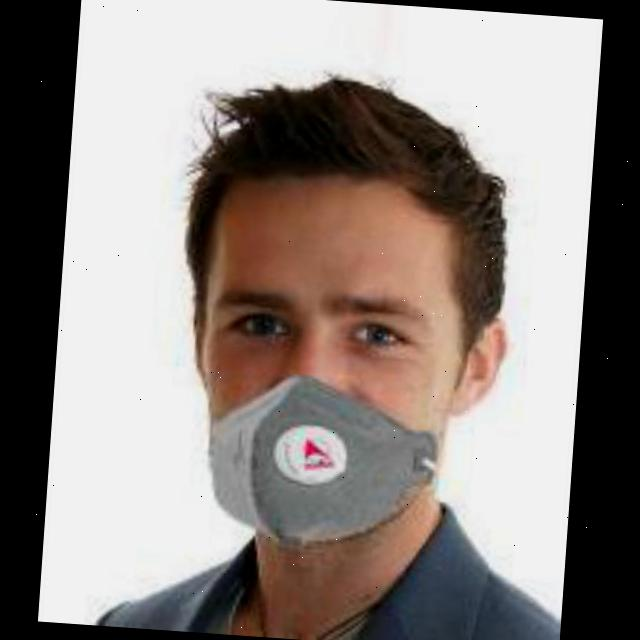suspicion: (168, 144, 494, 550)
